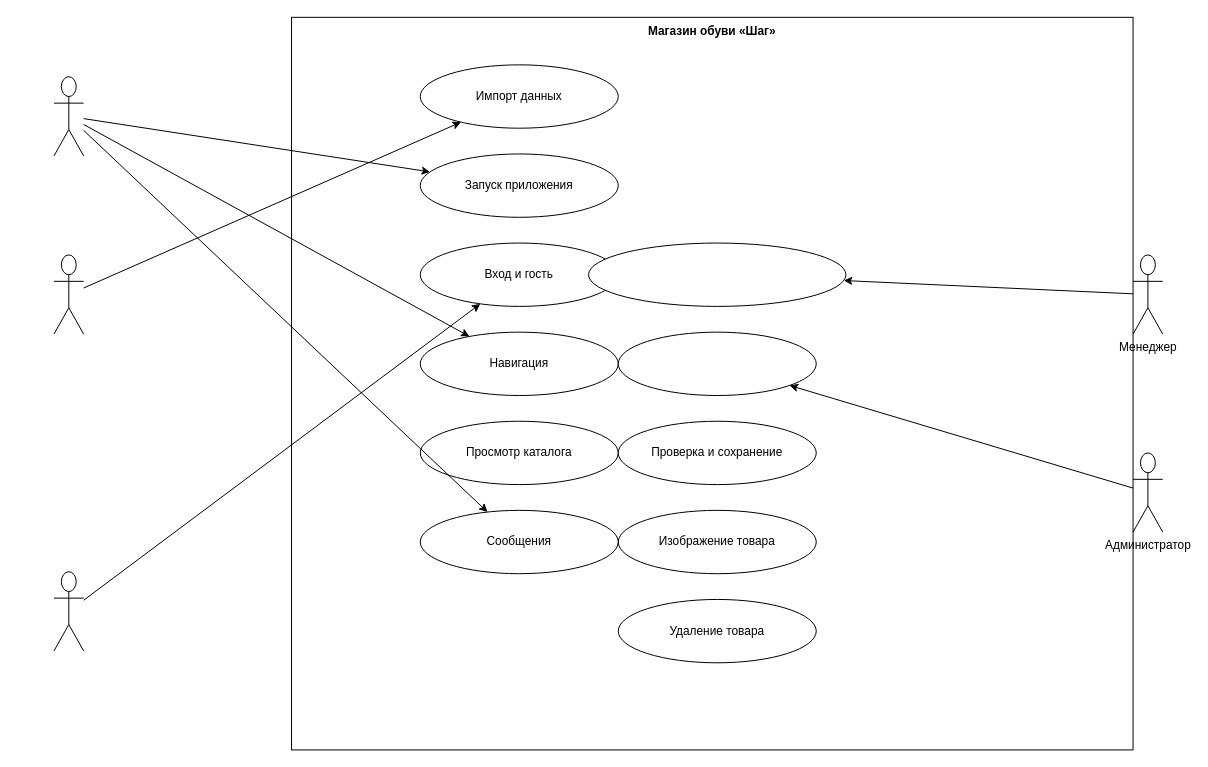
The diagram is 1208 pixels wide and 767 high, and some of its shapes have lost their labels. Here are the shapes that lost their labels. From the top down, the centre of each, then its label:
At [68,116]: "Пользователь".
At [68,294]: "Оператор загрузки".
At [717,274]: "Поиск, фильтрация, сортировка".
At [716,363]: "Форма товара".
At [68,611]: "Гость".
